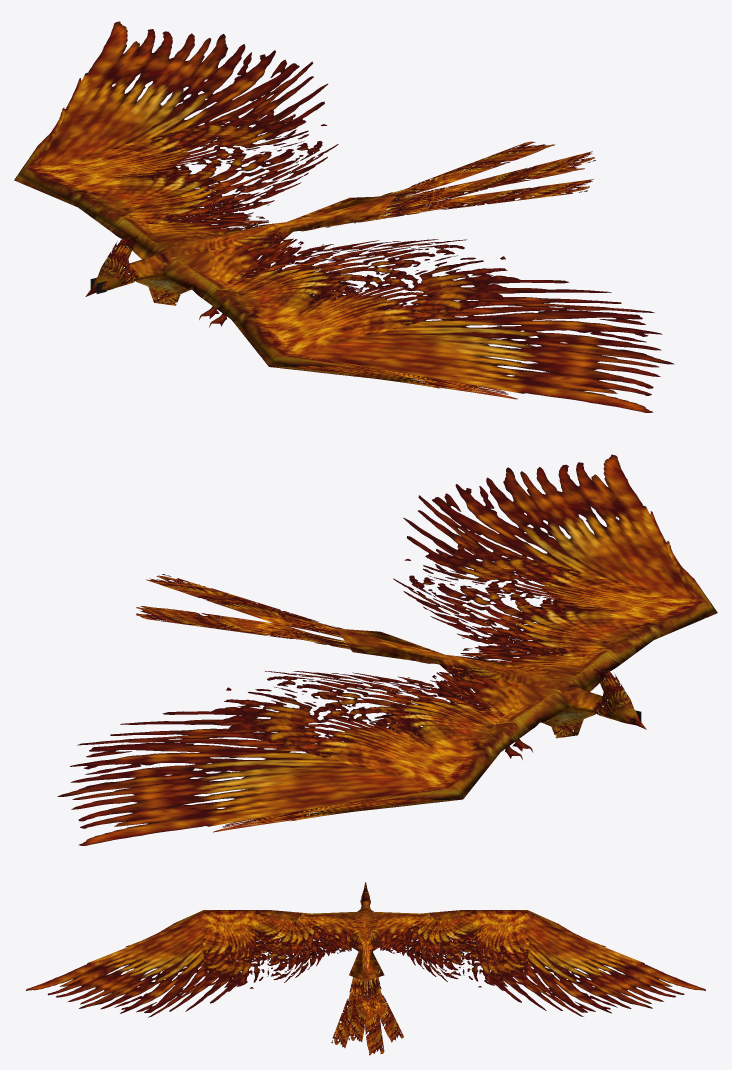
Rendered from bst70.obj.
The picture shows the model from 3 angles, top to bottom: view 1: azimuth 30°, elevation 25°; view 2: azimuth 150°, elevation 25°; view 3: azimuth 270°, elevation 25°; orthographic projection. The views are drawn at different scales.
Visible parts, largest first — view 1: OBJECT010.001, PHOENIX_MESH20, PHOENIX_TAIL0; view 2: OBJECT010.001, PHOENIX_MESH20, PHOENIX_TAIL0; view 3: OBJECT010.001, PHOENIX_MESH20, PHOENIX_TAIL0.
Part boxes in pixels (<box>): OBJECT010.001: <box>41,21,674,412</box>; PHOENIX_MESH20: <box>14,78,517,399</box>; PHOENIX_TAIL0: <box>299,141,595,231</box>; OBJECT010.001: <box>57,454,690,845</box>; PHOENIX_MESH20: <box>213,511,717,832</box>; PHOENIX_TAIL0: <box>136,574,432,663</box>; OBJECT010.001: <box>26,915,705,1017</box>; PHOENIX_MESH20: <box>111,882,619,981</box>; PHOENIX_TAIL0: <box>331,977,403,1055</box>.
Size of the model in its own units: 162 by 32.52 by 308.
5 materials, 3 textured.
